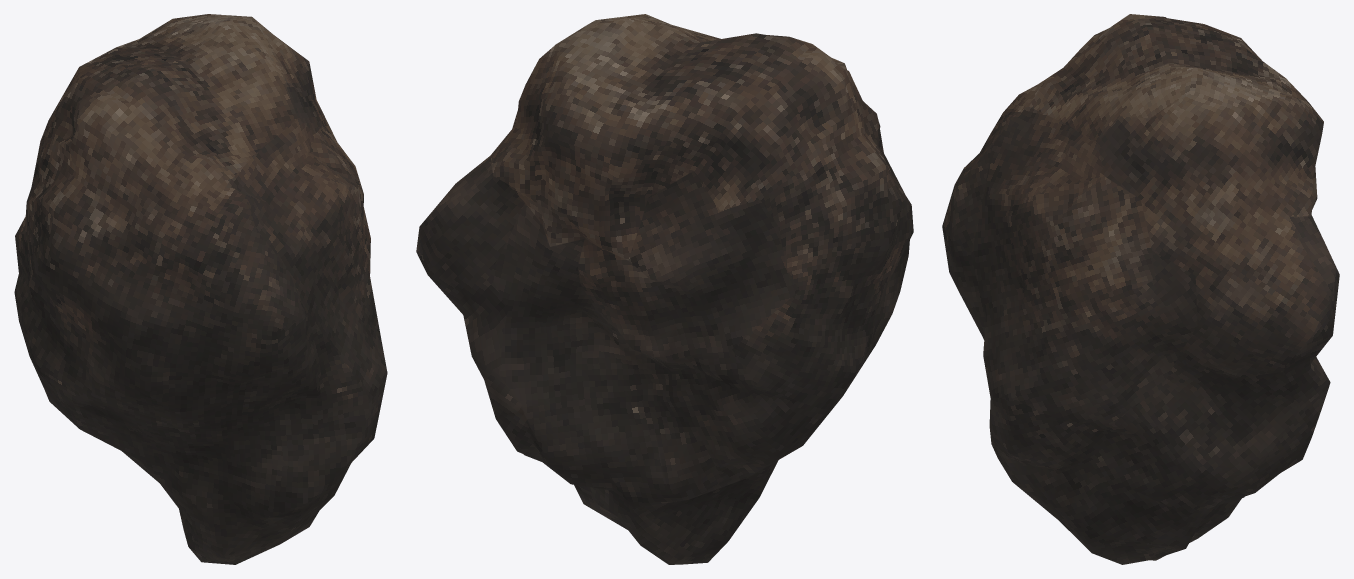
File: SM_RP2_Rock_2m_1.001.glb
3 renders of one model, left to right at view 1: azimuth 30°, elevation 25°; view 2: azimuth 150°, elevation 25°; view 3: azimuth 270°, elevation 25°, orthographic. The views are drawn at different scales.
Parts seen in each view (by area): view 1: SM_RP2_Rock_2m_1.001; view 2: SM_RP2_Rock_2m_1.001; view 3: SM_RP2_Rock_2m_1.001.
Boxes of the visible parts, x1,y1,x2,y2 form: SM_RP2_Rock_2m_1.001: [14, 14, 387, 564]; SM_RP2_Rock_2m_1.001: [416, 14, 913, 564]; SM_RP2_Rock_2m_1.001: [942, 14, 1339, 564].
Bounding box in the file's own units: 2.35 × 3.26 × 2.31.
Materials: 1 (1 with a texture image).
